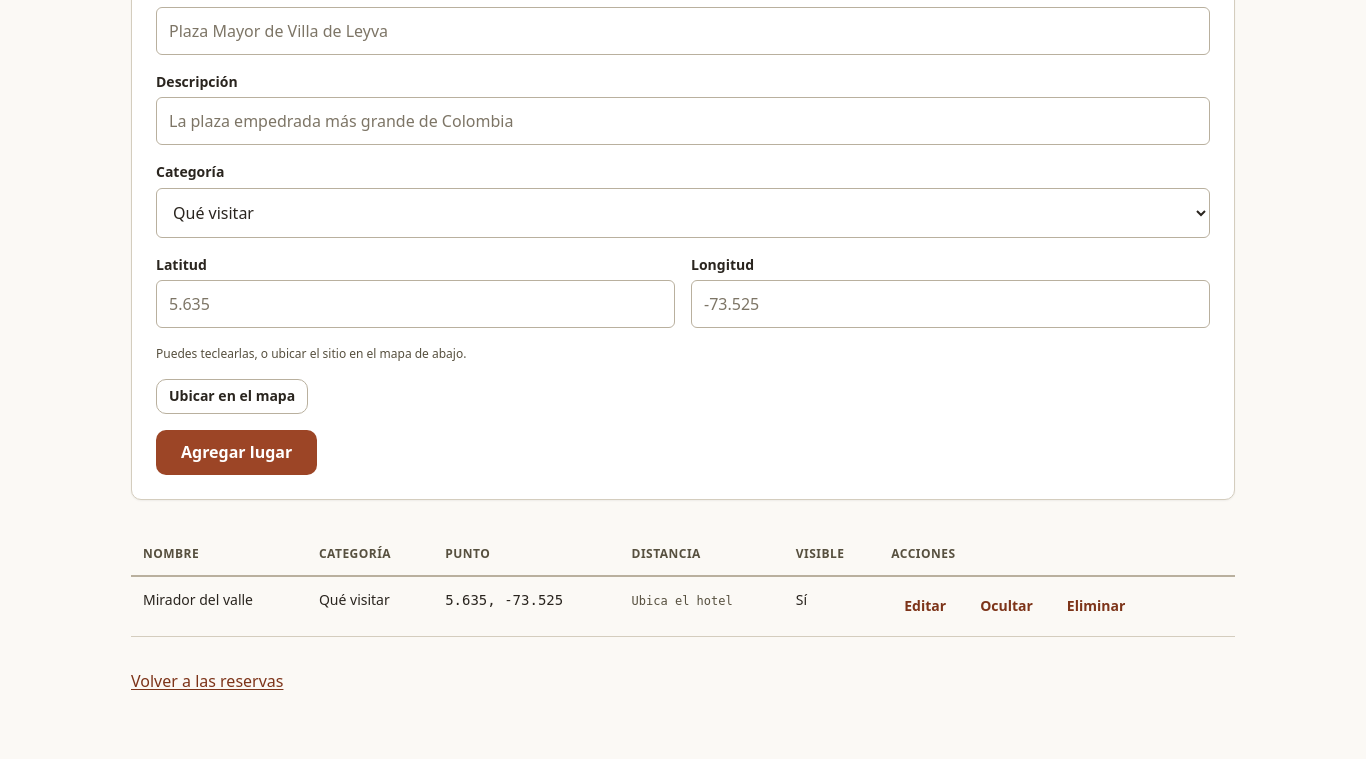
Scenario: edición de lugares del mapa › guarda los cambios del sitio elegido con PUT y actualiza la lista
(page scrolled)
Expected: the row "Mirador del valle" is shown, [131,577,1235,637]
Click the button with aria-label "Editar Mirador del valle": coordinates (925, 607) [891,589,959,624]
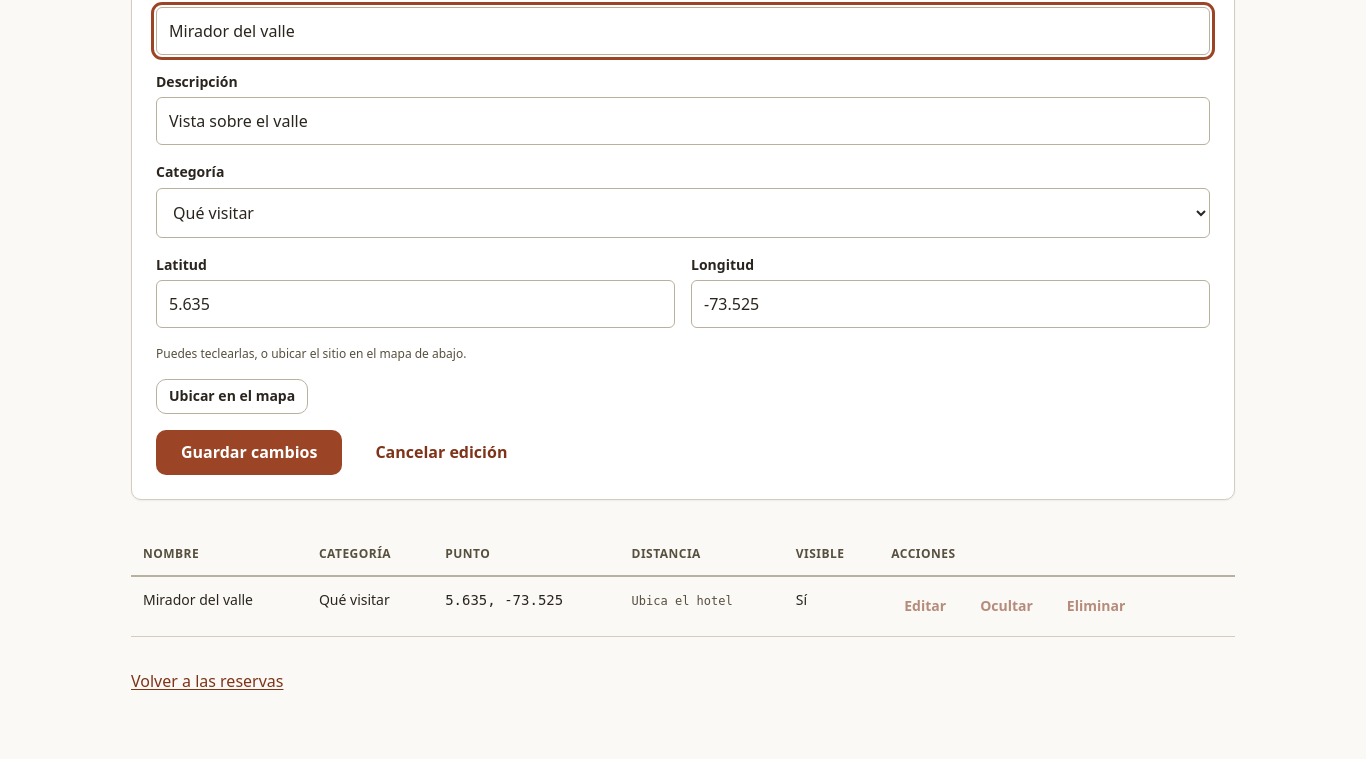
Select "Dónde alojarse" in the dropdown labelled "Categoría": coordinates (683, 212) [156,188,1210,238]
Replace the text in the field labelled "Nombre" with "Mirador del valle alto": coordinates (683, 31) [156,7,1210,55]
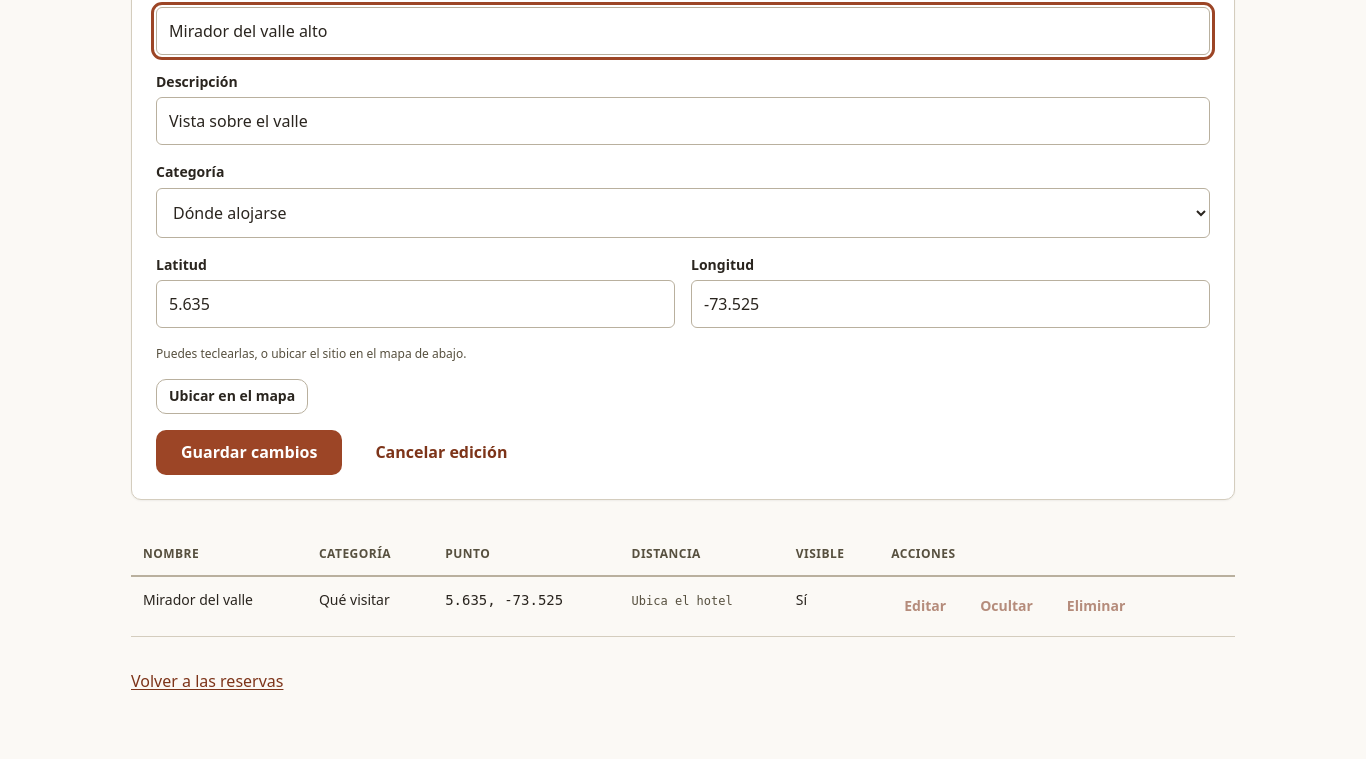
Replace the text in the field labelled "Descripción" with "Vista desde arriba": coordinates (683, 121) [156,97,1210,145]
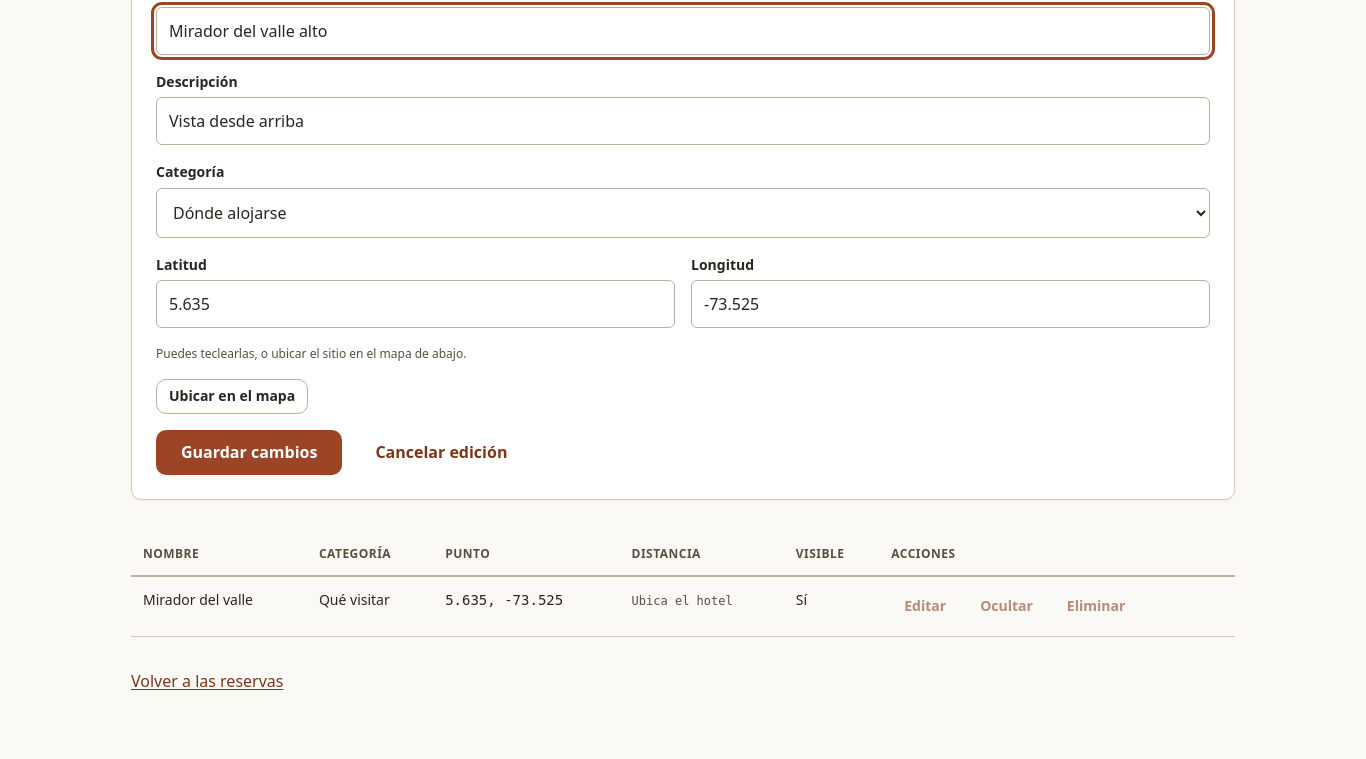
In the number field labelled "Latitud": coordinates (416, 304) [156,280,675,328], type "5.64"
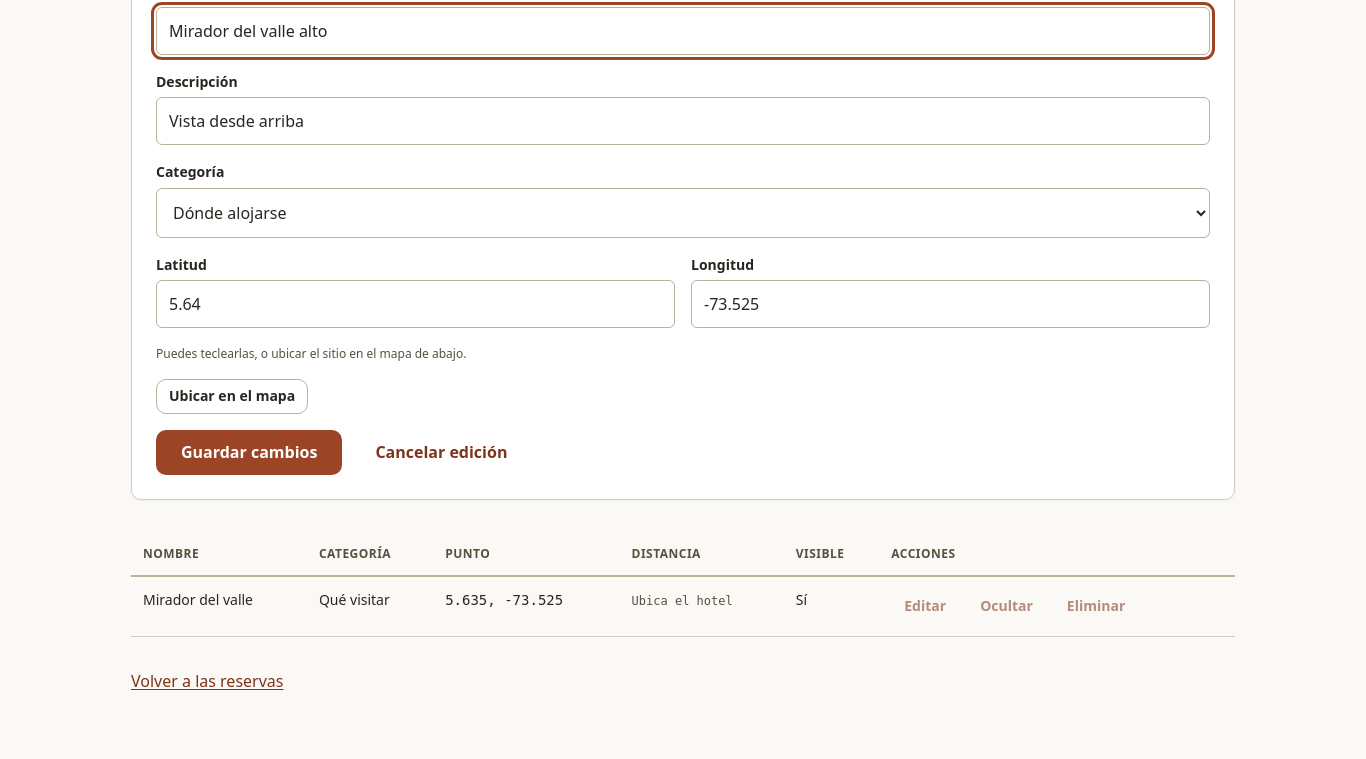
In the number field labelled "Longitud": coordinates (950, 304) [691,280,1210,328], type "-73.53"
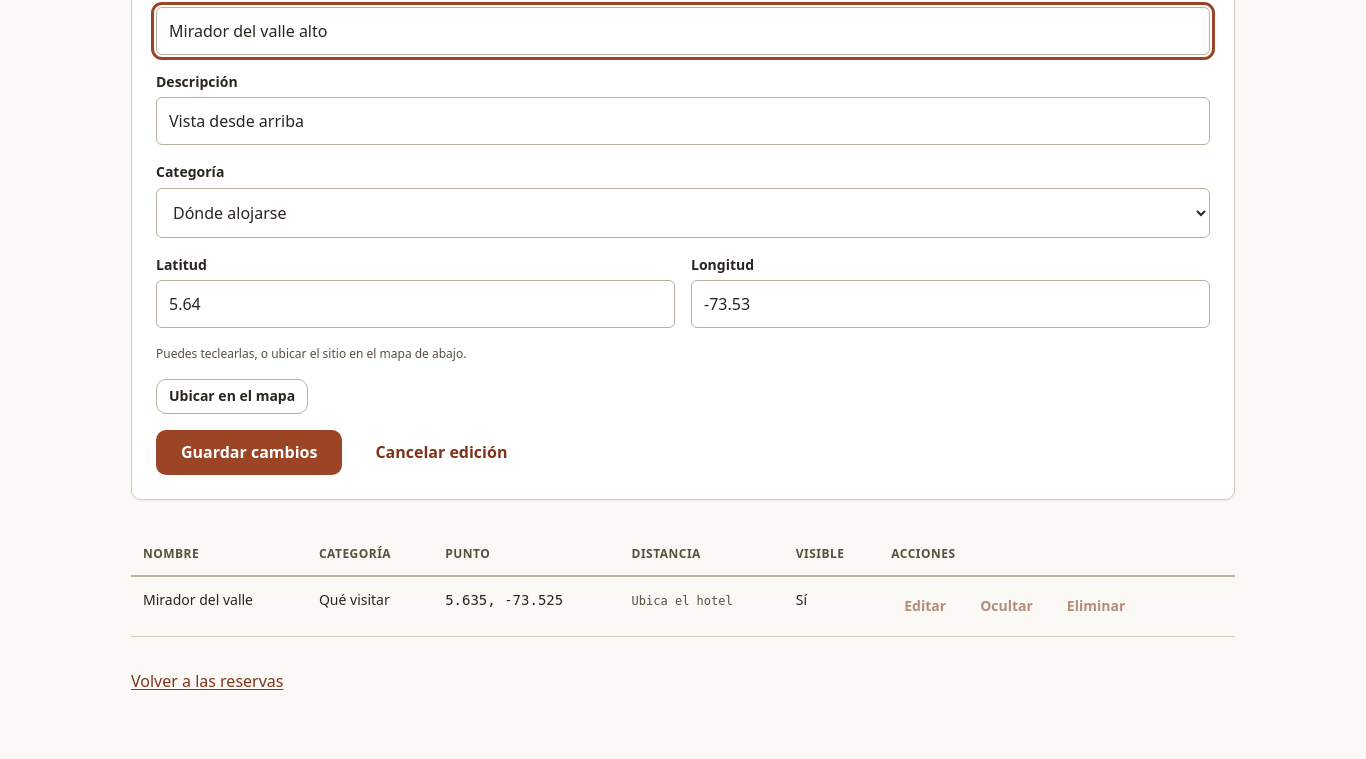
Click the button "Guardar cambios": coordinates (249, 452) [156,430,342,475]
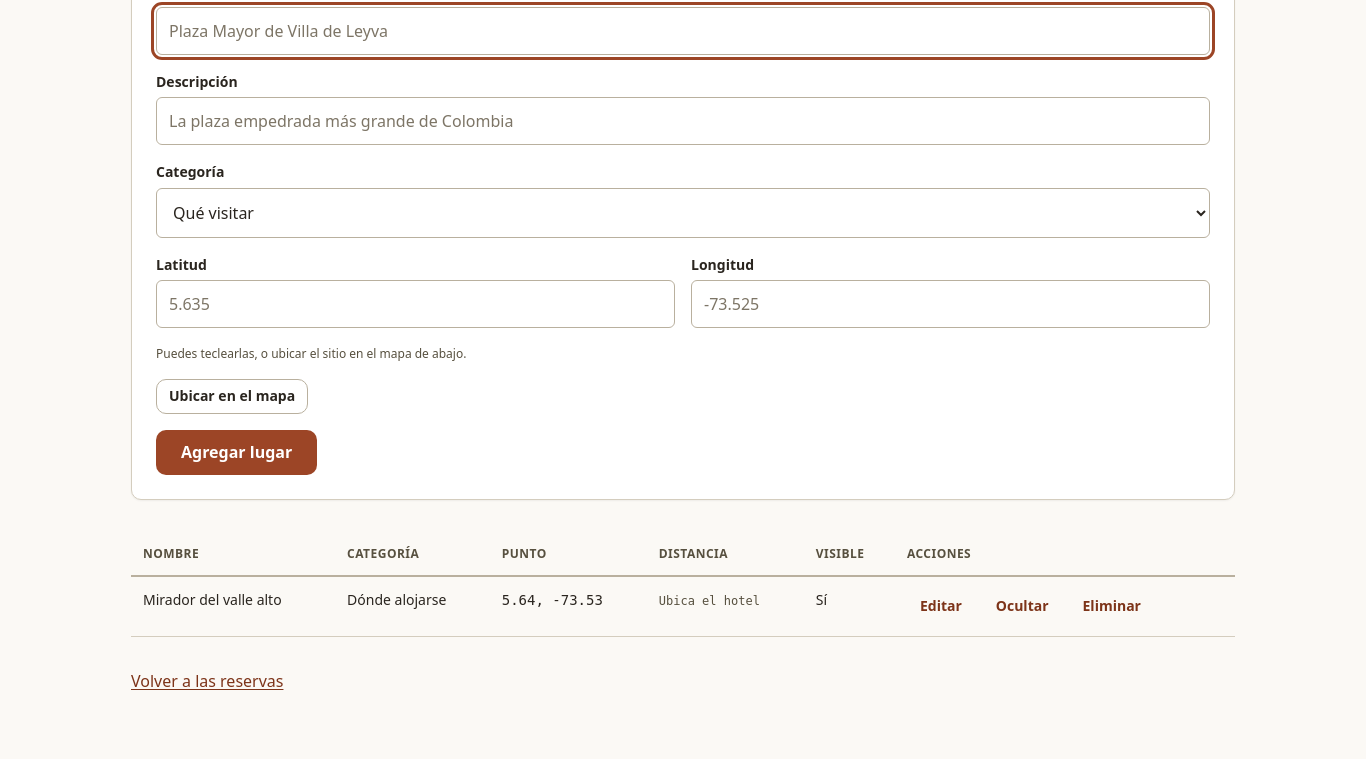
Now the row "Mirador del valle alto" is shown, box [131,577,1235,637]
